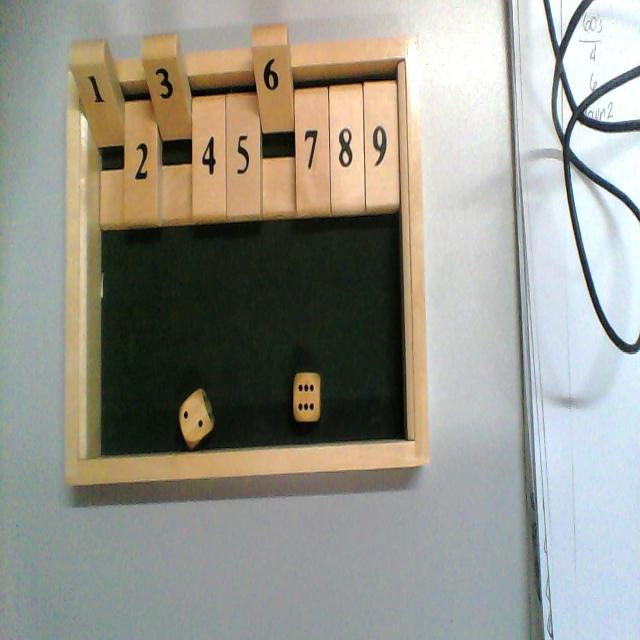2: (175, 386, 217, 452)
6: (288, 361, 325, 434)
O1: (70, 42, 124, 233)
O3: (142, 36, 192, 221)
O6: (252, 29, 298, 221)
